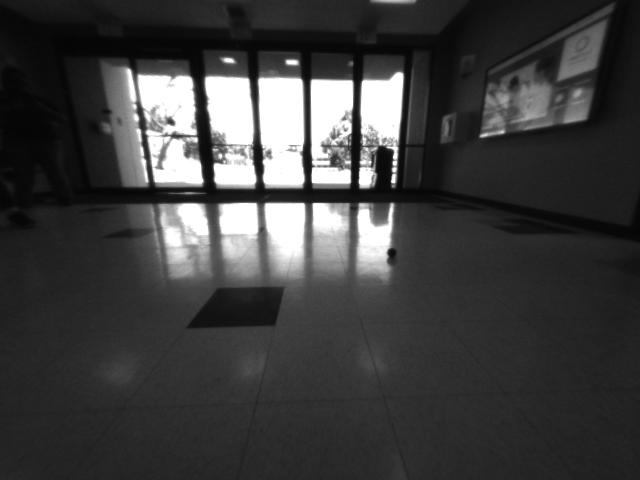dogtoy: (379, 236, 407, 268)
